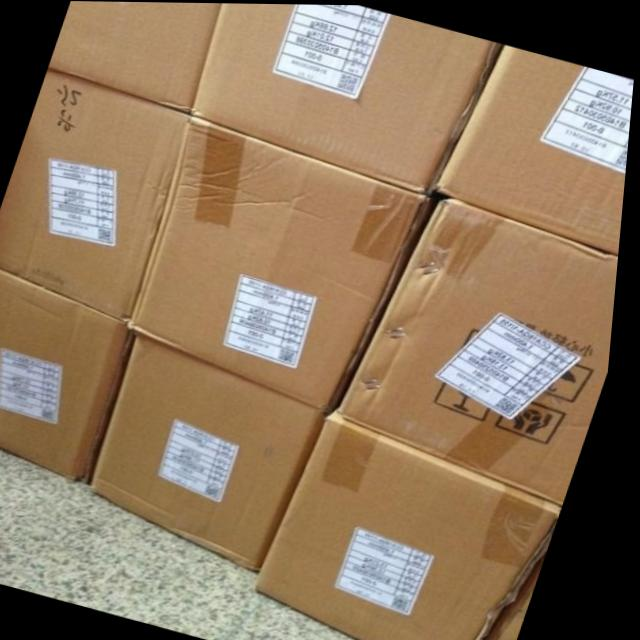box: (128, 116, 436, 410), (346, 196, 623, 505), (265, 410, 571, 640), (191, 3, 505, 191), (98, 333, 336, 573), (0, 65, 191, 321), (438, 44, 635, 254), (0, 265, 143, 482), (49, 1, 221, 116), (495, 546, 557, 640)
